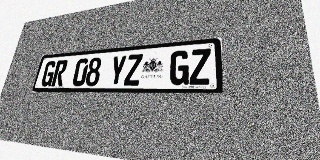0: (71, 58, 90, 86)
8: (84, 57, 103, 86)
G: (169, 50, 190, 85), (40, 61, 57, 87)
R: (51, 60, 68, 86)
Y: (108, 55, 127, 86)
Z: (189, 48, 211, 85), (123, 54, 143, 86)
